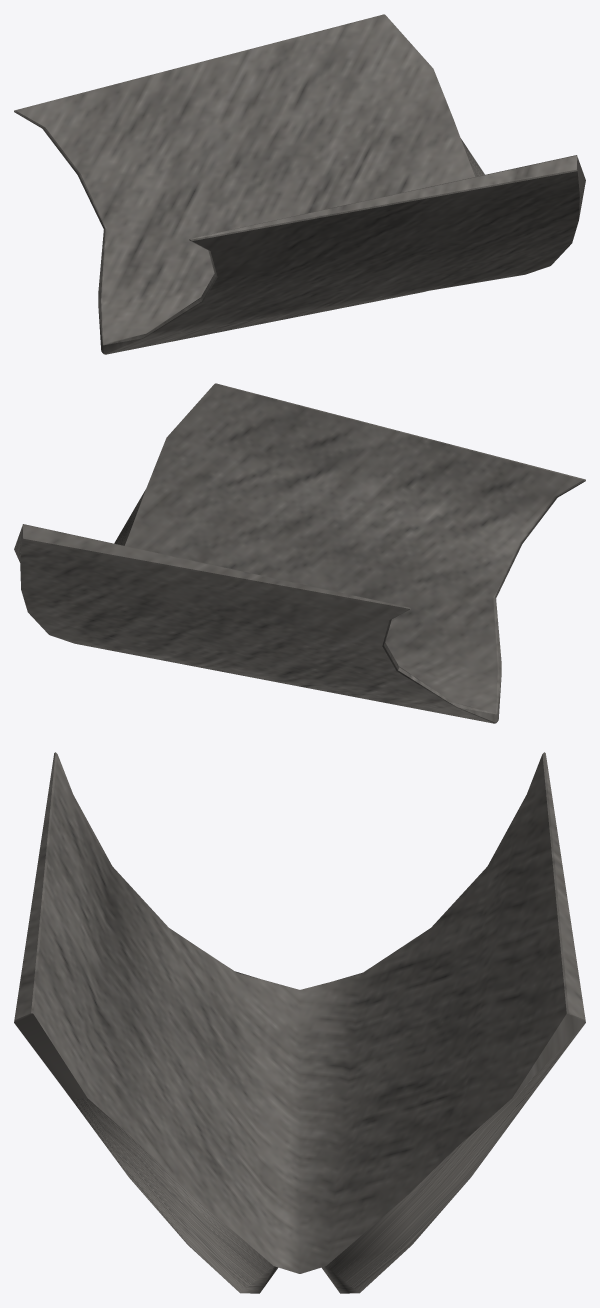
The picture shows the model from 3 angles, top to bottom: view 1: azimuth 30°, elevation 25°; view 2: azimuth 150°, elevation 25°; view 3: azimuth 270°, elevation 25°; orthographic projection. The views are drawn at different scales.
Visible parts, largest first — view 1: point_triangle; view 2: point_triangle; view 3: point_triangle.
Part boxes in pixels (bbox=[...]): point_triangle: bbox=[14, 14, 585, 354]; point_triangle: bbox=[14, 383, 585, 723]; point_triangle: bbox=[14, 752, 585, 1293].
Size of the model in its own units: 7.56 by 6.25 by 3.29.
